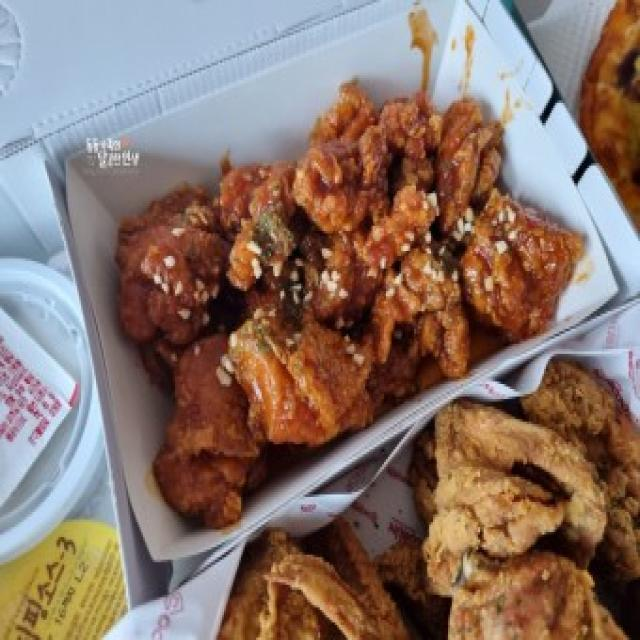Frango: (91, 67, 562, 417)
